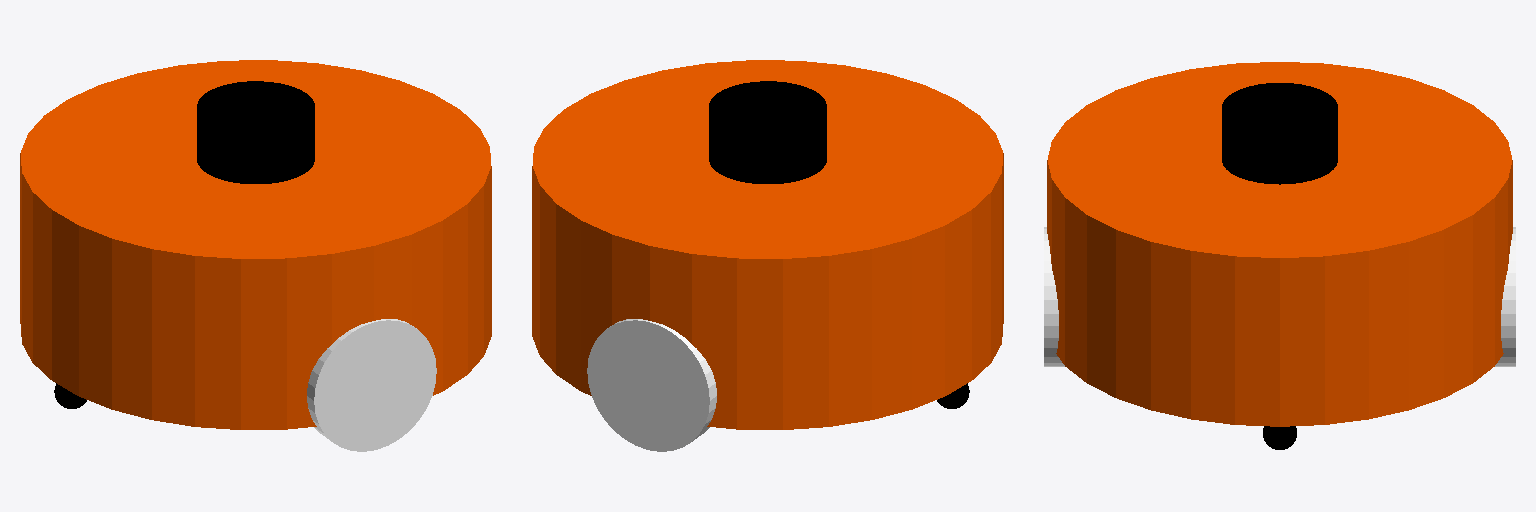
URDF robot description (robot):
<?xml version="1.0" ?>
<robot name="robot">

    <link name="base_link">
        <visual>
            <origin xyz=" 0 0 0" rpy="0 0 0" />
            <geometry>
                <cylinder length="0.16" radius="0.20"/>
            </geometry>
            <material name="yellow">
                <color rgba="1 0.4 0 1"/>
            </material>
        </visual>
    </link>

    <joint name="left_wheel_joint" type="continuous">
        <origin xyz="0 0.19 -0.05" rpy="0 0 0"/>
        <parent link="base_link"/>
        <child link="left_wheel_link"/>
        <axis xyz="0 1 0"/>
    </joint>

    <link name="left_wheel_link">
        <visual>
            <origin xyz="0 0 0" rpy="1.5707 0 0" />
            <geometry>
                <cylinder radius="0.06" length = "0.025"/>
            </geometry>
            <material name="white">
                <color rgba="1 1 1 0.9"/>
            </material>
        </visual>
    </link>

    <joint name="right_wheel_joint" type="continuous">
        <origin xyz="0 -0.19 -0.05" rpy="0 0 0"/>
        <parent link="base_link"/>
        <child link="right_wheel_link"/>
        <axis xyz="0 1 0"/>
    </joint>

    <link name="right_wheel_link">
        <visual>
            <origin xyz="0 0 0" rpy="1.5707 0 0" />
            <geometry>
                <cylinder radius="0.06" length = "0.025"/>
            </geometry>
            <material name="white">
                <color rgba="1 1 1 0.9"/>
            </material>
        </visual>
    </link>

    <joint name="front_caster_joint" type="continuous">
        <origin xyz="0.18 0 -0.095" rpy="0 0 0"/>
        <parent link="base_link"/>
        <child link="front_caster_link"/>
        <axis xyz="0 1 0"/>
    </joint>

    <link name="front_caster_link">
        <visual>
            <origin xyz="0 0 0" rpy="0 0 0"/>
            <geometry>
                <sphere radius="0.015" />
            </geometry>
            <material name="black">
                <color rgba="0 0 0 0.95"/>
            </material>
        </visual>
    </link>

    <joint name="back_caster_joint" type="continuous">
        <origin xyz="-0.18 0 -0.095" rpy="0 0 0"/>
        <parent link="base_link"/>
        <child link="back_caster_link"/>
        <axis xyz="0 1 0"/>
    </joint>

    <link name="back_caster_link">
        <visual>
            <origin xyz="0 0 0" rpy="0 0 0"/>
            <geometry>
                <sphere radius="0.015" />
            </geometry>
            <material name="black">
                <color rgba="0 0 0 0.95"/>
            </material>
        </visual>
    </link>

    <link name="laser_link">
		<visual>
			<origin xyz=" 0 0 0 " rpy="0 0 0" />
			<geometry>
				<cylinder length="0.05" radius="0.05"/>
			</geometry>
			<material name="black"/>
		</visual>
    </link>

    <joint name="laser_joint" type="fixed">
        <origin xyz="0 0 0.105" rpy="0 0 0"/>
        <parent link="base_link"/>
        <child link="laser_link"/>
    </joint>

</robot>

--- Facts derived from the render (not from the file) ---
The picture shows the robot from 3 angles, left to right: view 1: azimuth 30°, elevation 25°; view 2: azimuth 150°, elevation 25°; view 3: azimuth 270°, elevation 25°; orthographic projection.
Model robot with 6 links and 5 joints (4 continuous, 1 fixed), rooted at base_link, posed all joints at 0.
Visible links, largest first — view 1: base_link, right_wheel_link, laser_link; view 2: base_link, left_wheel_link, laser_link; view 3: base_link, laser_link, left_wheel_link, right_wheel_link, front_caster_link.
Boxes of the visible links, x1=… form: base_link: x1=20, y1=60, x2=491, y2=429; right_wheel_link: x1=307, y1=319, x2=436, y2=451; laser_link: x1=197, y1=81, x2=314, y2=183; base_link: x1=532, y1=60, x2=1003, y2=429; left_wheel_link: x1=587, y1=319, x2=716, y2=451; laser_link: x1=709, y1=81, x2=826, y2=183; base_link: x1=1047, y1=62, x2=1512, y2=426; laser_link: x1=1222, y1=83, x2=1337, y2=184; left_wheel_link: x1=1495, y1=227, x2=1515, y2=366; right_wheel_link: x1=1044, y1=227, x2=1064, y2=366; front_caster_link: x1=1263, y1=426, x2=1296, y2=449.
Size in the robot's own frame: 0.4 by 0.405 by 0.24 metres.
Geometry: primitives only (box / cylinder / sphere), no mesh files.